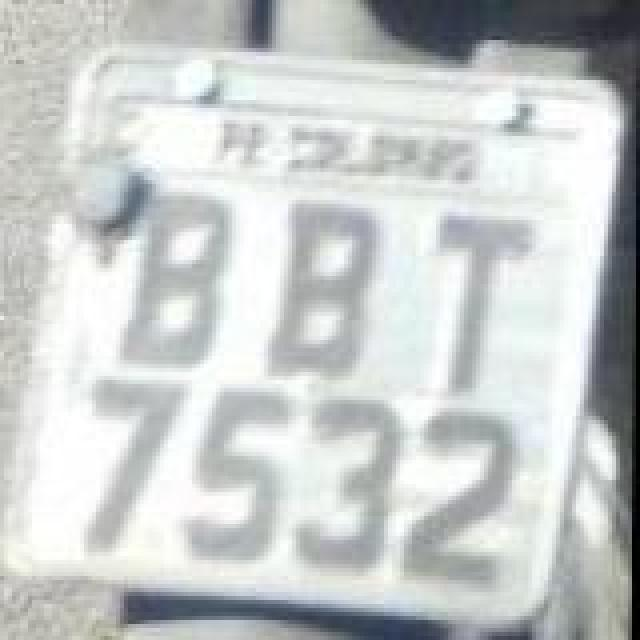2: (398, 404, 526, 588)
3: (294, 394, 414, 574)
5: (174, 384, 302, 568)
7: (82, 372, 194, 556)
B: (112, 188, 240, 372), (260, 196, 388, 380)
T: (426, 212, 542, 396)
